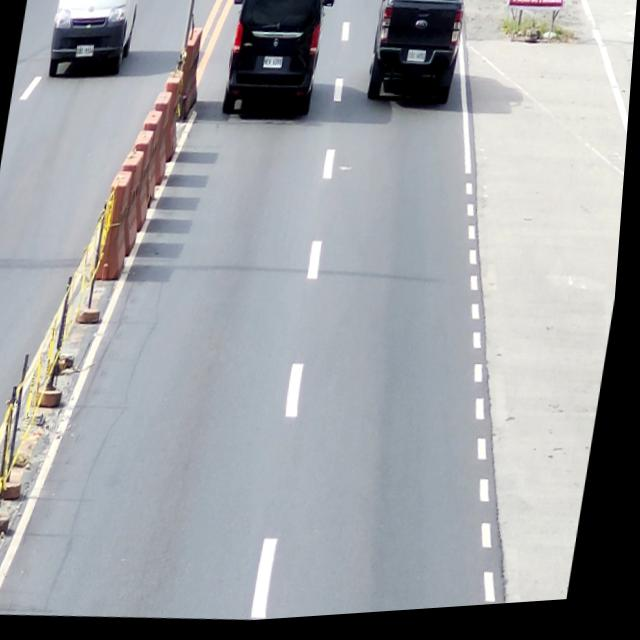Car: (216, 0, 337, 125), (360, 0, 472, 115), (41, 0, 141, 84)
License-Plate: (262, 56, 286, 76), (406, 51, 429, 71), (73, 42, 97, 60)
